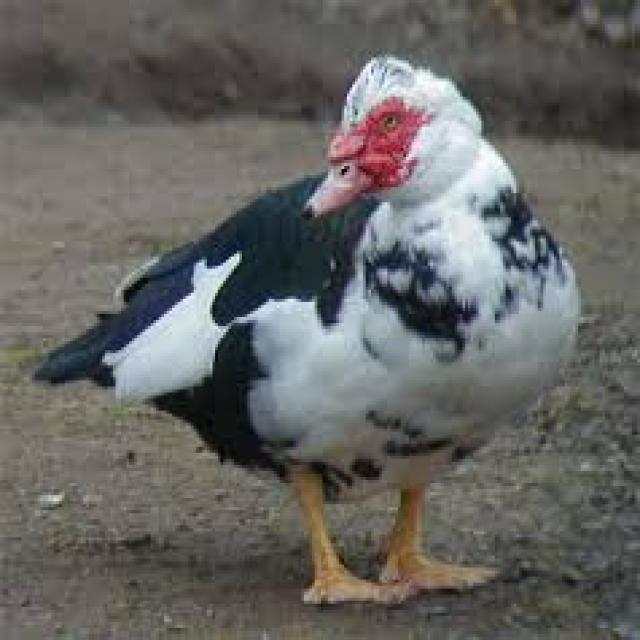Duck: (34, 40, 594, 608)
